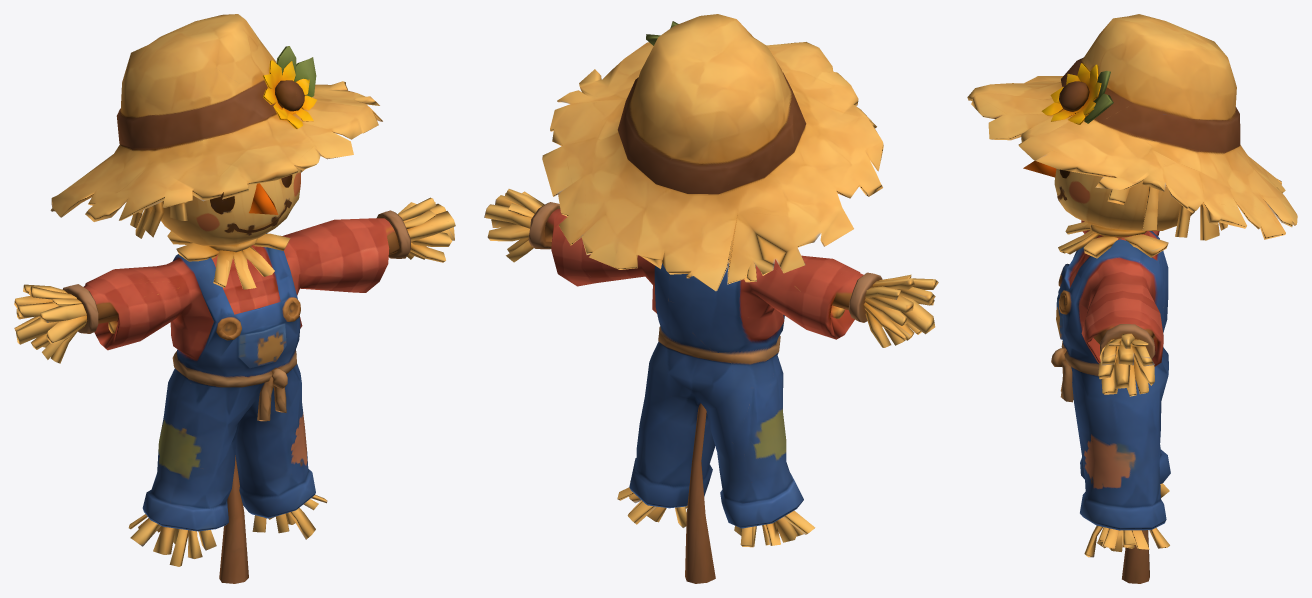
The model's file is PRP_Scarecrow.fbx.
3 renders of one model, left to right at view 1: azimuth 30°, elevation 25°; view 2: azimuth 150°, elevation 25°; view 3: azimuth 270°, elevation 25°, orthographic.
Visible parts, largest first — view 1: geometry_0; view 2: geometry_0; view 3: geometry_0.
Boxes of the visible parts, x1,y1,x2,y2 form: geometry_0: [14, 14, 455, 583]; geometry_0: [484, 14, 938, 583]; geometry_0: [967, 14, 1297, 583].
Size of the model in its own units: 78.22 by 95.26 by 51.81.
Materials: 1 (1 with a texture image).
